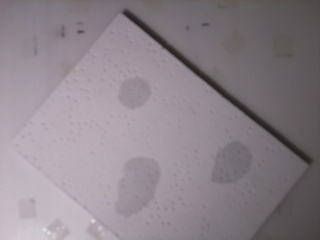Water_detected: (122, 157, 162, 213), (120, 73, 153, 113), (209, 146, 246, 181)
